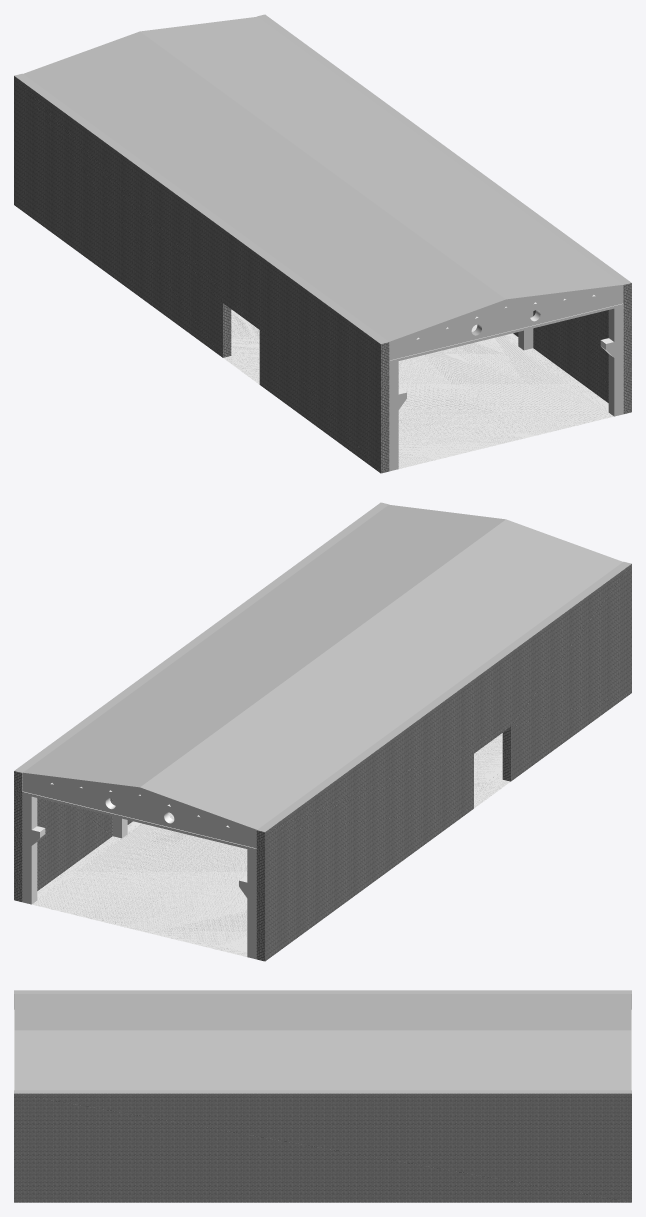
3 views of the same model, one above another, from view 1: azimuth 30°, elevation 25°; view 2: azimuth 150°, elevation 25°; view 3: azimuth 270°, elevation 25° (orthographic). The views are drawn at different scales.
Visible parts, largest first — view 1: SketchUp (×6); view 2: SketchUp (×7); view 3: SketchUp (×2).
Part boxes in pixels (<box>): SketchUp (×6): <box>14,14,631,473</box>; SketchUp (×7): <box>14,502,631,961</box>; SketchUp (×2): <box>14,990,631,1202</box>.
Size of the model in its own units: 906 by 2293 by 494.
